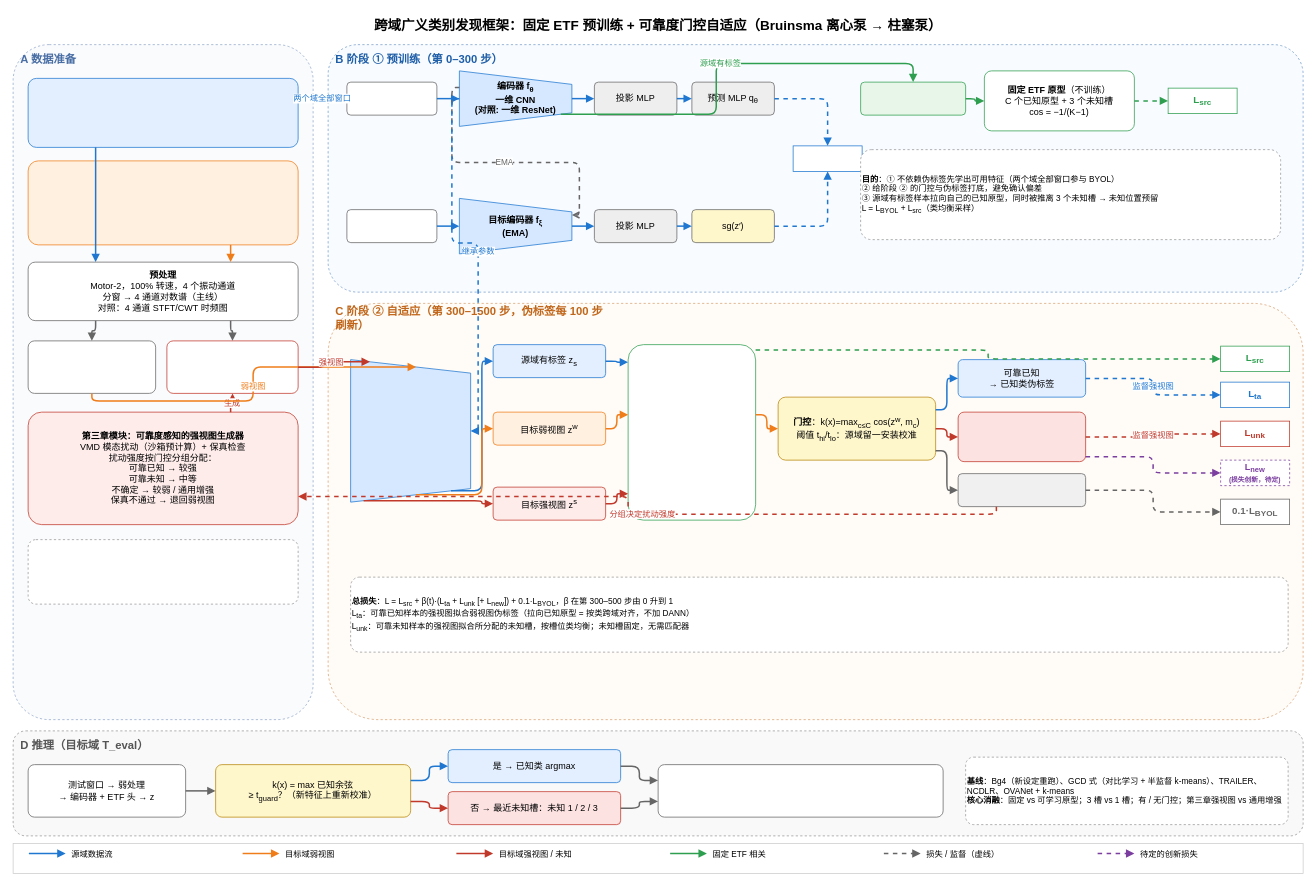
Image size: 1316x887. Some labels were removed from this diagram. The centre of each missing label's shape, as x and y in pixels:
"ETF 投影头 g → L2 归一化 z" belongs at [913,98].
"L BYOL" belongs at [827,158].
"不确定 → 只参与 BYOL" belongs at [1021,490].
"可靠未知 → 放宽均衡分配 到未知槽 u1/u2/u3" belongs at [1021,436].
"固定 ETF 原型 （与阶段 ① 同一组） s k = cos(z, m k )/τ τ = 0.1" belongs at [691,432].
"弱视图 x w 归一化" belongs at [91,366].
"强视图 x s 来自第三章模块" belongs at [232,366].
"未知类标签只用于评估与事后诊断 阈值、超参数只用源域留一安装验证选取 75% 转速数据封存" belongs at [162,571].
"源域 S：训练安装 已知类窗口 10% 有标签 (x s , y s ) 其余无标签（可能含未知故障）" belongs at [162,112].
"目标域 T：新设备（留出安装） 全部无标签 x t ，含已知 + 未知故障 按测量记录拆分： T adapt （训练用） | T eval （只评估）" belongs at [162,202].
"编码器 f （继承阶段 ①， 可训练）" belongs at [410,430].
"视图 v" belongs at [391,98].
"视图 v′" belongs at [391,226].
"评估：H、未知聚类准确率（匈牙利匹配）、 已知误判为未知比例、NMI；对照：拒绝样本 k-means" belongs at [800,790].
